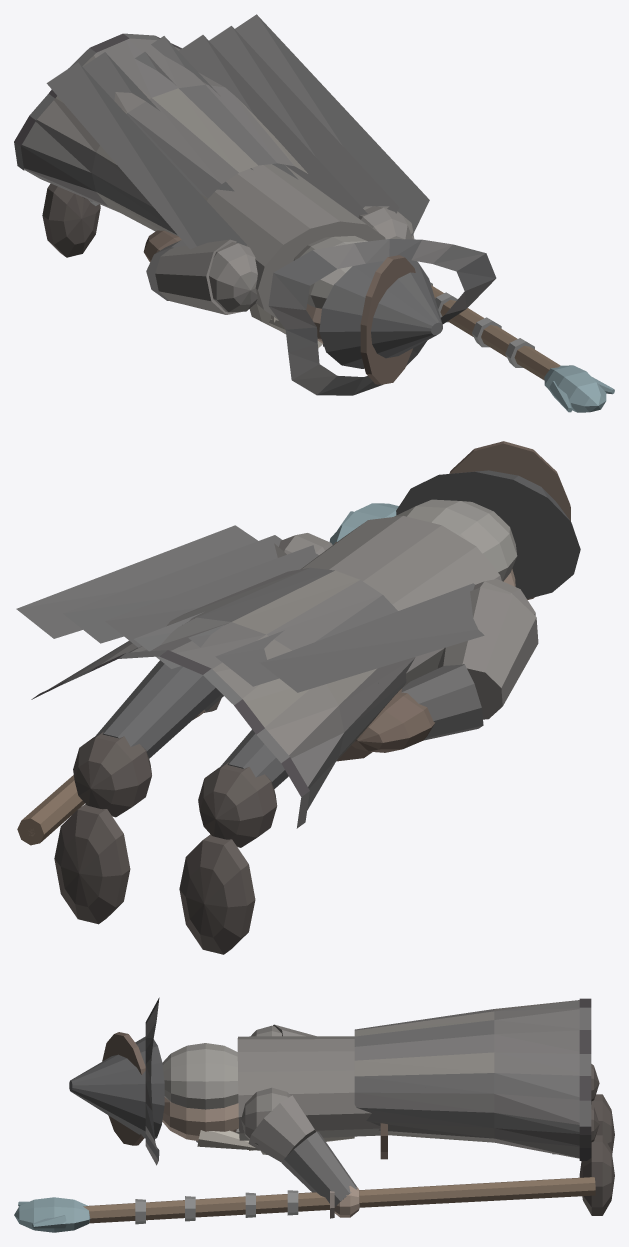
The model's file is wizard-frost-neutral.glb.
3 views of the same model, one above another, from view 1: azimuth 30°, elevation 25°; view 2: azimuth 150°, elevation 25°; view 3: azimuth 270°, elevation 25° (orthographic). The views are drawn at different scales.
Parts seen in each view (by area): view 1: cape, robe, hat-brim, torso, hat-crown, shoulder, upper-arm, boot, hat-band, staff, frost-crown, hem (+3 smaller); view 2: cape, robe, boot, torso, hat-crown, leg, upper-arm, forearm, rear-hair, hat-band, hem, pouch (+3 smaller); view 3: robe, torso, staff, hat-crown, rear-hair, boot, forearm, upper-arm, hem, face, frost-crown, shoulder (+6 smaller).
Boxes of the visible parts, bbox=[...] form: cape: bbox=[46, 14, 429, 249]; robe: bbox=[21, 38, 307, 236]; hat-brim: bbox=[268, 239, 496, 395]; torso: bbox=[207, 164, 385, 319]; hat-crown: bbox=[319, 260, 442, 368]; shoulder: bbox=[209, 206, 412, 312]; upper-arm: bbox=[155, 206, 414, 314]; boot: bbox=[42, 183, 100, 257]; hat-band: bbox=[360, 255, 415, 384]; staff: bbox=[431, 285, 560, 380]; frost-crown: bbox=[544, 365, 606, 412]; hem: bbox=[14, 33, 181, 170]; cape: bbox=[16, 525, 484, 692]; robe: bbox=[50, 567, 415, 809]; boot: bbox=[54, 731, 277, 954]; torso: bbox=[301, 516, 501, 687]; hat-crown: bbox=[396, 470, 580, 598]; leg: bbox=[94, 660, 378, 788]; upper-arm: bbox=[274, 543, 538, 719]; forearm: bbox=[204, 664, 483, 740]; rear-hair: bbox=[394, 499, 517, 581]; hat-band: bbox=[449, 441, 570, 599]; hem: bbox=[31, 650, 309, 828]; pouch: bbox=[351, 688, 434, 752]; robe: bbox=[354, 1000, 579, 1158]; torso: bbox=[237, 1036, 380, 1140]; staff: bbox=[83, 1177, 595, 1223]; hat-crown: bbox=[69, 1036, 164, 1138]; rear-hair: bbox=[162, 1043, 238, 1109]; boot: bbox=[552, 1064, 614, 1215]; forearm: bbox=[282, 1131, 357, 1206]; upper-arm: bbox=[248, 1024, 316, 1162]; hem: bbox=[579, 998, 591, 1160]; face: bbox=[162, 1097, 238, 1140]; frost-crown: bbox=[14, 1197, 90, 1232]; shoulder: bbox=[241, 1025, 298, 1145].
Size of the model in its own units: 1.23 by 0.8595 by 2.54.
